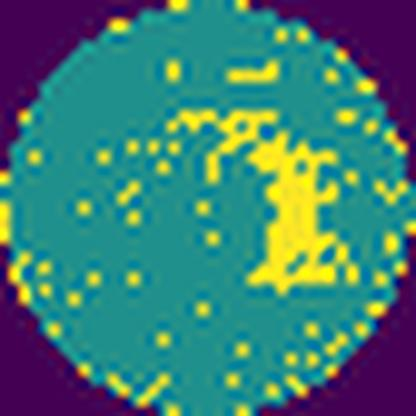Loc: (172, 106, 354, 286)
